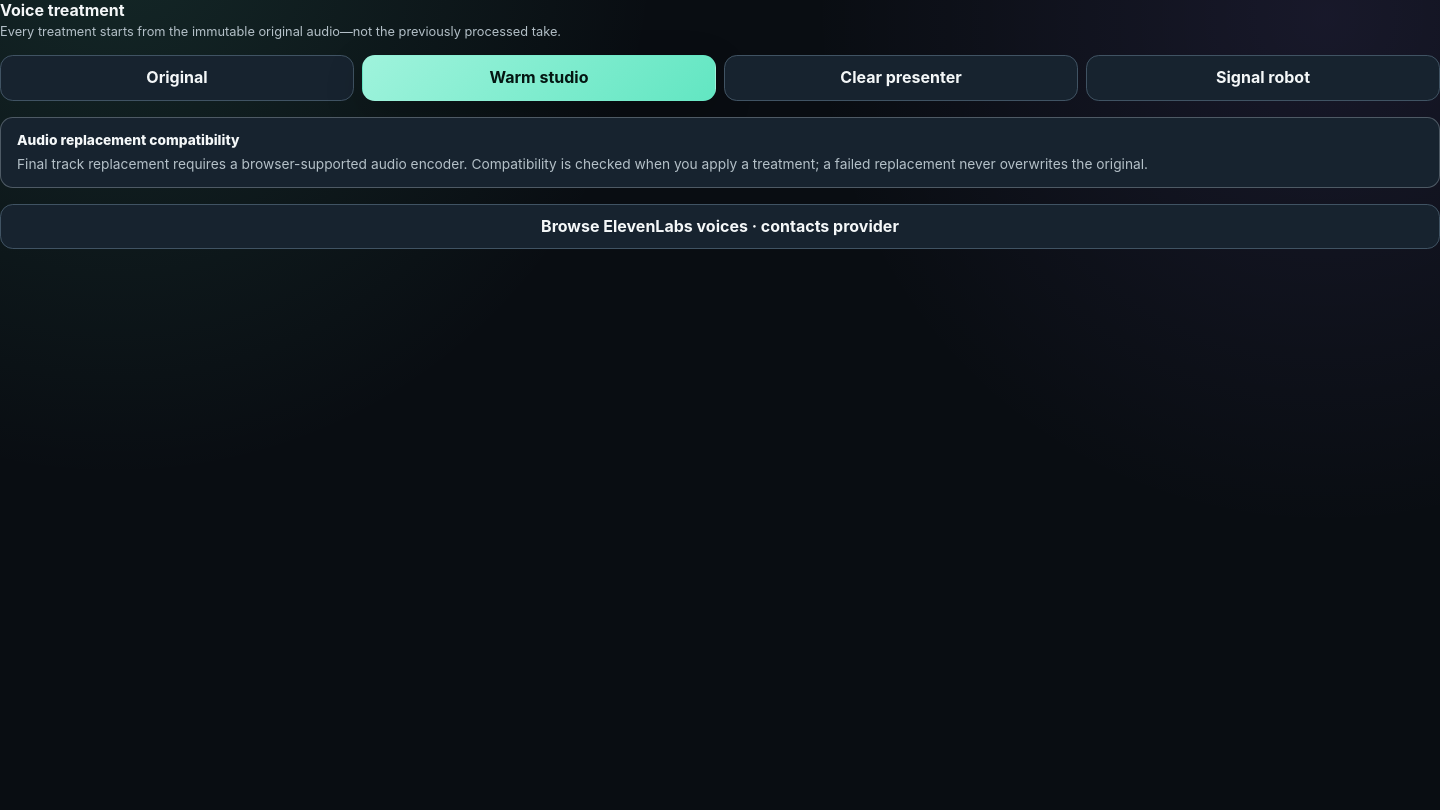
Test: VoiceEffectsPanel › does not browse voices until the user intentionally opens the stacked browser
Click the button "Browse ElevenLabs voices · contacts provider": (720, 227) [0,204,1439,250]
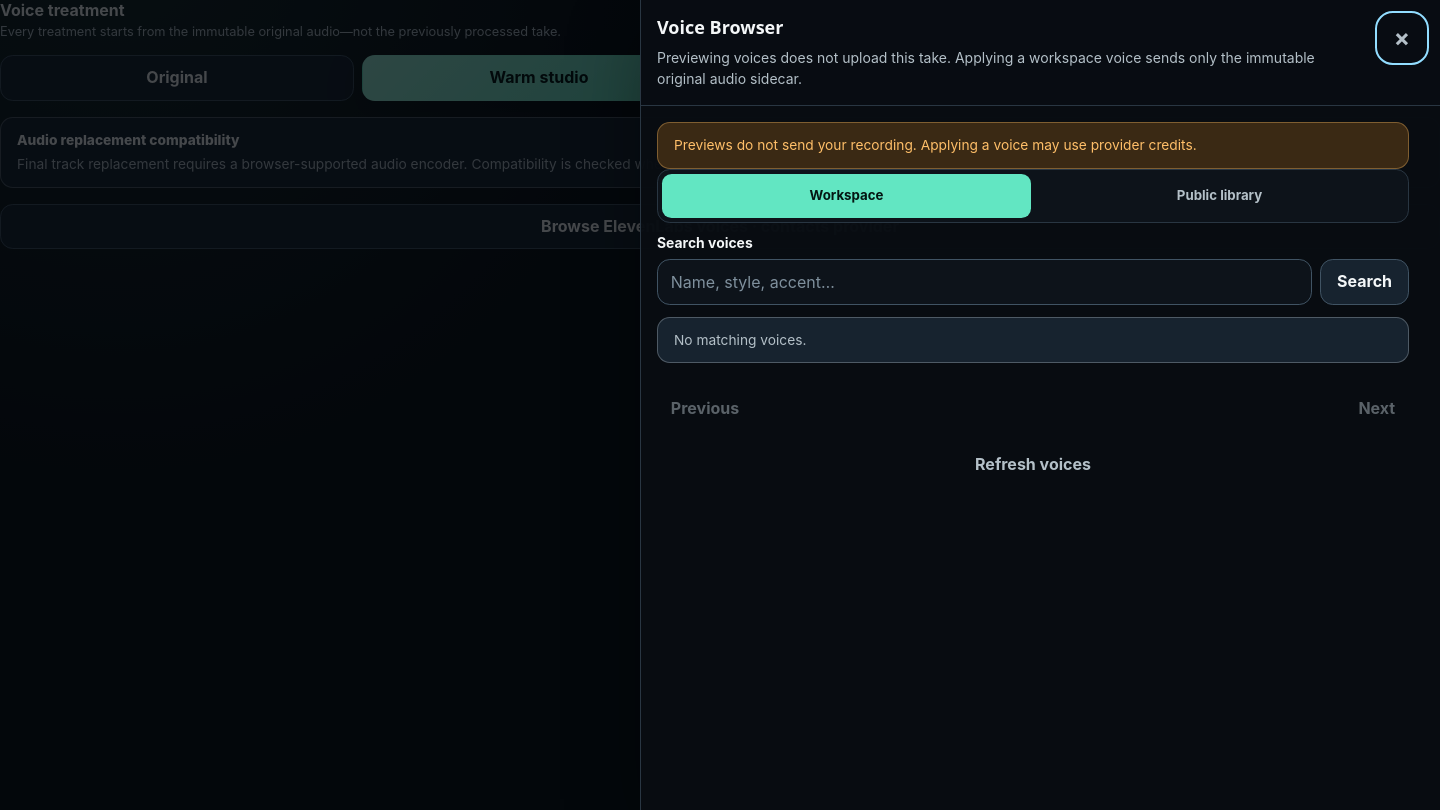
Expected: the dialog "Voice Browser" is shown, [640,0,1439,809]
